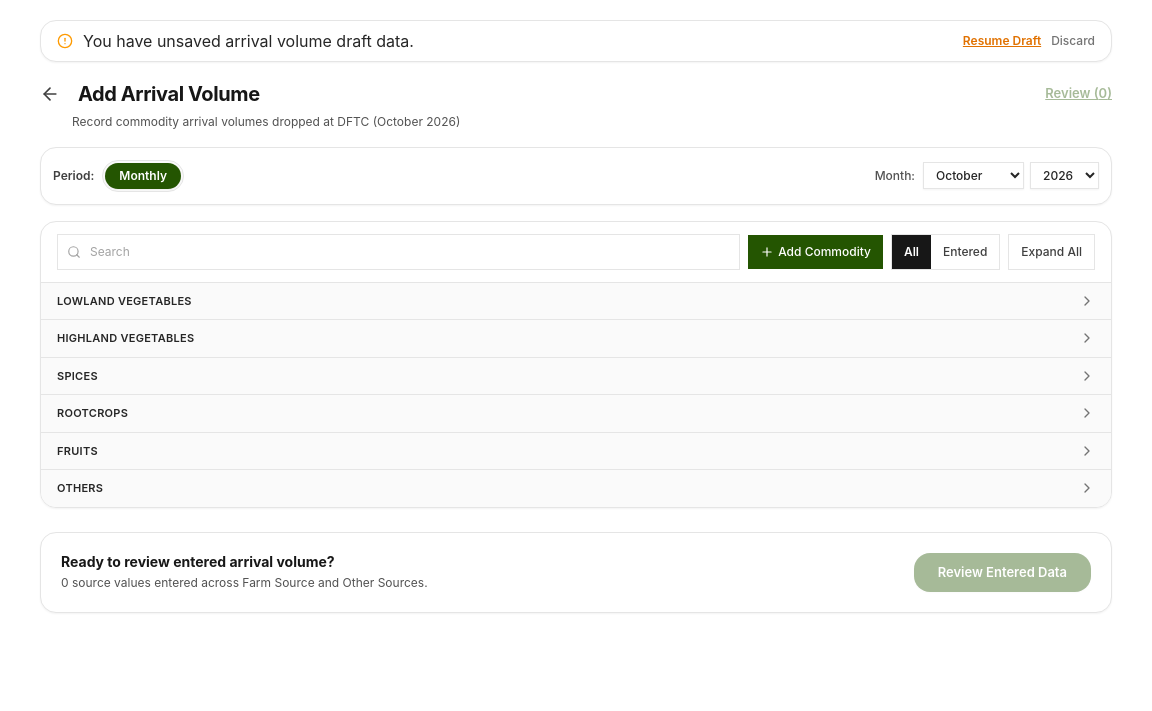
Test: DFTCArrivalInput restores a draft whose commodities sit in legacy category buckets › merges the legacy lowland bucket into the derived lowland category
What coordinates should you click on to do the following:
click the button "Resume Draft"
I would click on:
 (1002, 41)
Its box is [963,32,1041,50].
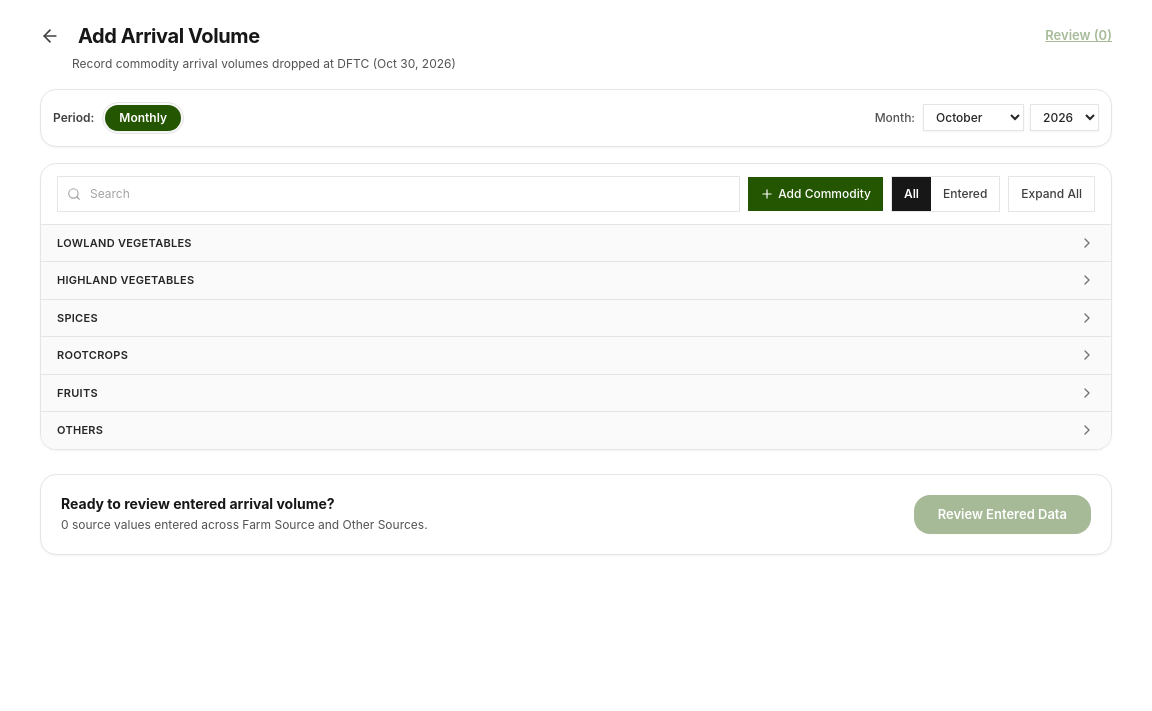
What coordinates should you click on to do the following:
click the button "Lowland Vegetables"
I would click on:
 (124, 242)
Its box is [41,224,1111,261].
(page scrolled)
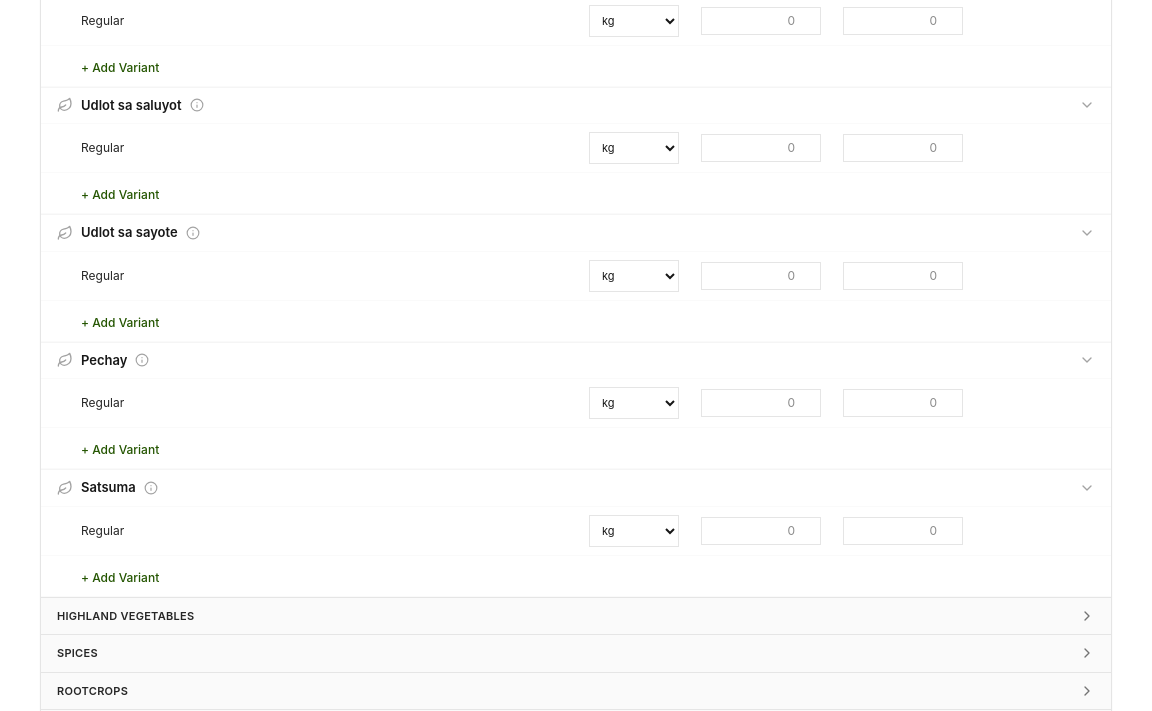
Now the text "Satsuma" is shown, box [81,478,136,498]
Now the text "Pechay" is shown, box [81,350,127,370]
